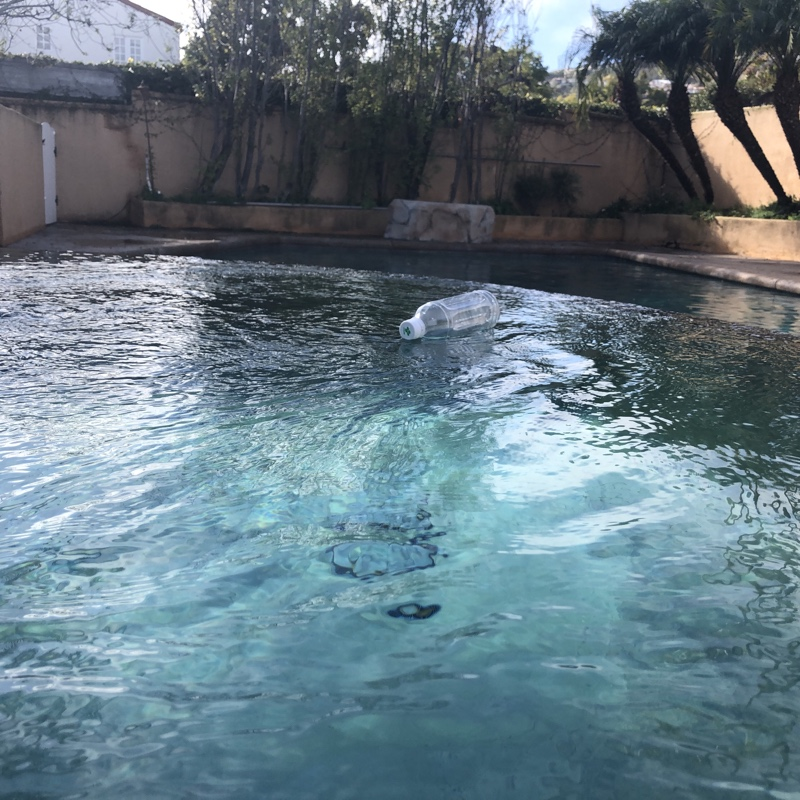Plastic Bottle: (394, 286, 504, 342)
